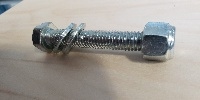FinishedAssembly: (30, 24, 184, 62)
